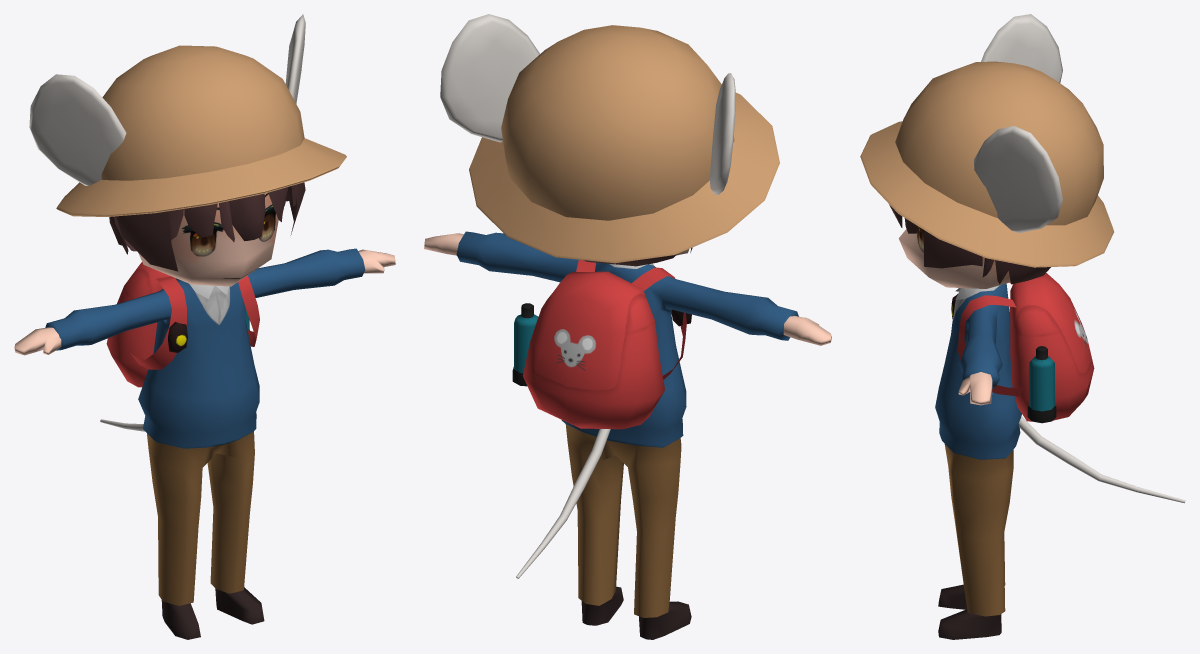
File: Player_model_0529.fbx
3 renders of one model, left to right at view 1: azimuth 30°, elevation 25°; view 2: azimuth 150°, elevation 25°; view 3: azimuth 270°, elevation 25°, orthographic. The views are drawn at different scales.
Visible parts, largest first — view 1: Player_model_0529; view 2: Player_model_0529; view 3: Player_model_0529.
Boxes of the visible parts, x1,y1,x2,y2 form: Player_model_0529: [14, 14, 395, 639]; Player_model_0529: [424, 14, 831, 639]; Player_model_0529: [860, 14, 1185, 639].
Size of the model in its own units: 20.95 by 29.28 by 15.76.
